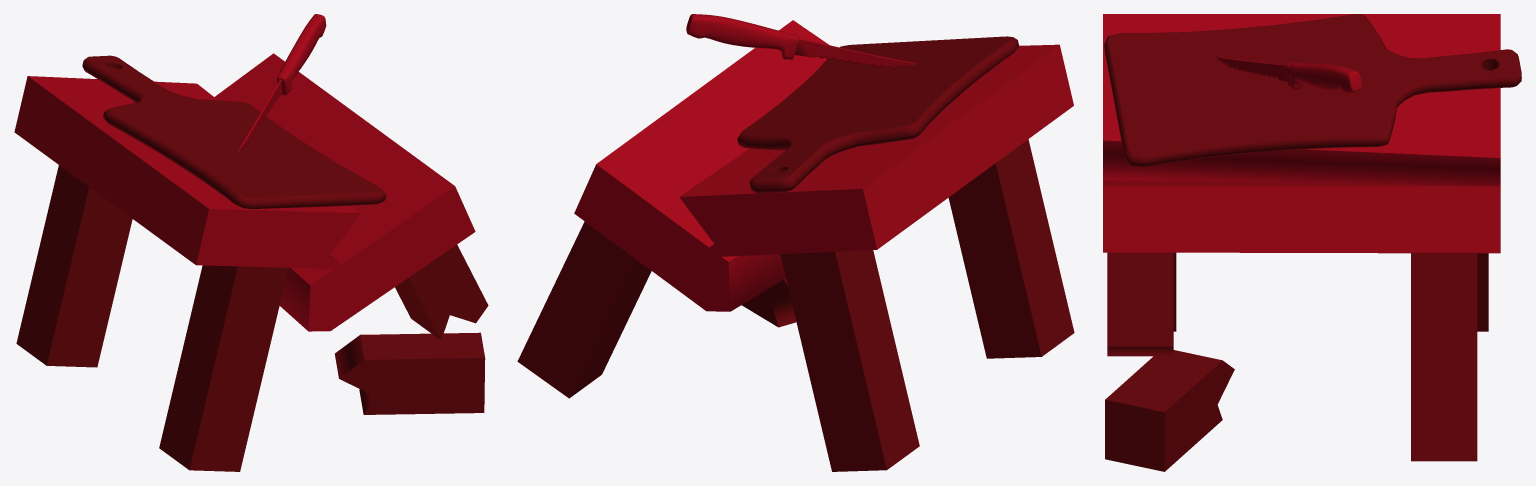
File: red_broken_chopping.fbx
3 renders of one model, left to right at view 1: azimuth 30°, elevation 25°; view 2: azimuth 150°, elevation 25°; view 3: azimuth 270°, elevation 25°, orthographic. The views are drawn at different scales.
Parts seen in each view (by area): view 1: pCube1, pCube2, stations:choppingboard, leg7, leg4, pCube4, pCube3, stations:KnifeHandle, stations:Knife; view 2: pCube1, pCube2, leg4, stations:choppingboard, leg7, leg6, stations:KnifeHandle, pCube4, stations:Knife; view 3: stations:choppingboard, pCube2, pCube1, leg6, pCube4, pCube3, stations:KnifeHandle, leg4, stations:Knife.
Boxes of the visible parts, x1,y1,x2,y2 form: pCube1: (14,76,360,269); pCube2: (214,53,475,331); stations:choppingboard: (82,55,386,208); leg7: (159,265,288,471); leg4: (16,165,132,367); pCube4: (335,332,485,414); pCube3: (395,244,488,340); stations:KnifeHandle: (277,14,326,95); stations:Knife: (238,80,282,150); pCube1: (679,44,1073,257); pCube2: (574,20,828,311); leg4: (780,250,919,471); stations:choppingboard: (737,36,1018,193); leg7: (948,139,1074,358); leg6: (517,221,651,398); stations:KnifeHandle: (686,14,799,59); pCube4: (741,278,796,327); stations:Knife: (795,38,916,68); stations:choppingboard: (1104,14,1521,167); pCube2: (1103,180,1500,253); pCube1: (1103,14,1500,186); leg6: (1411,252,1477,461); pCube4: (1105,350,1234,471); pCube3: (1107,252,1173,356); stations:KnifeHandle: (1284,62,1362,93); leg4: (1477,253,1488,331); stations:Knife: (1216,56,1287,81).
Bounding box in the file's own units: 33.02 × 30.05 × 31.59.
